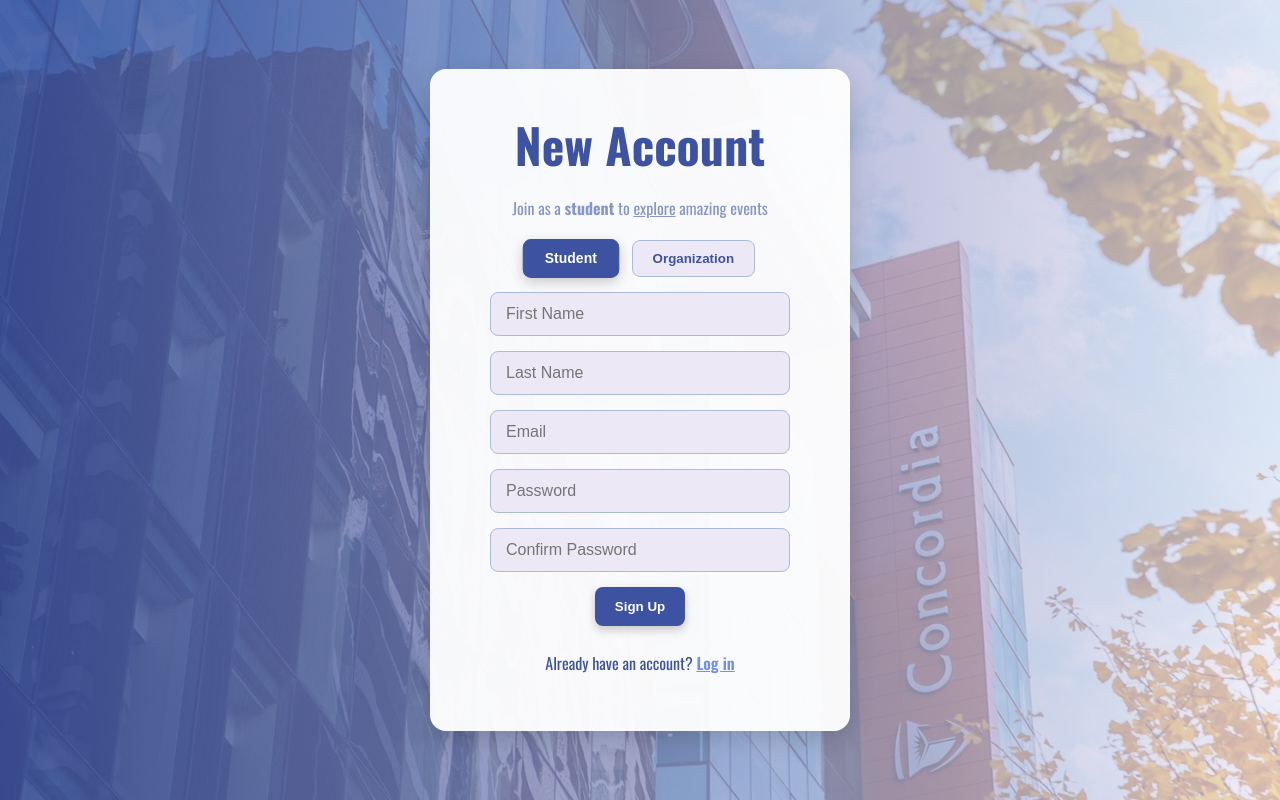
Test: Signup Component › toggles to organization account type
This screenshot has width=1280, height=800.
Click the button "Organization" at (693, 258), box [632, 240, 755, 277]
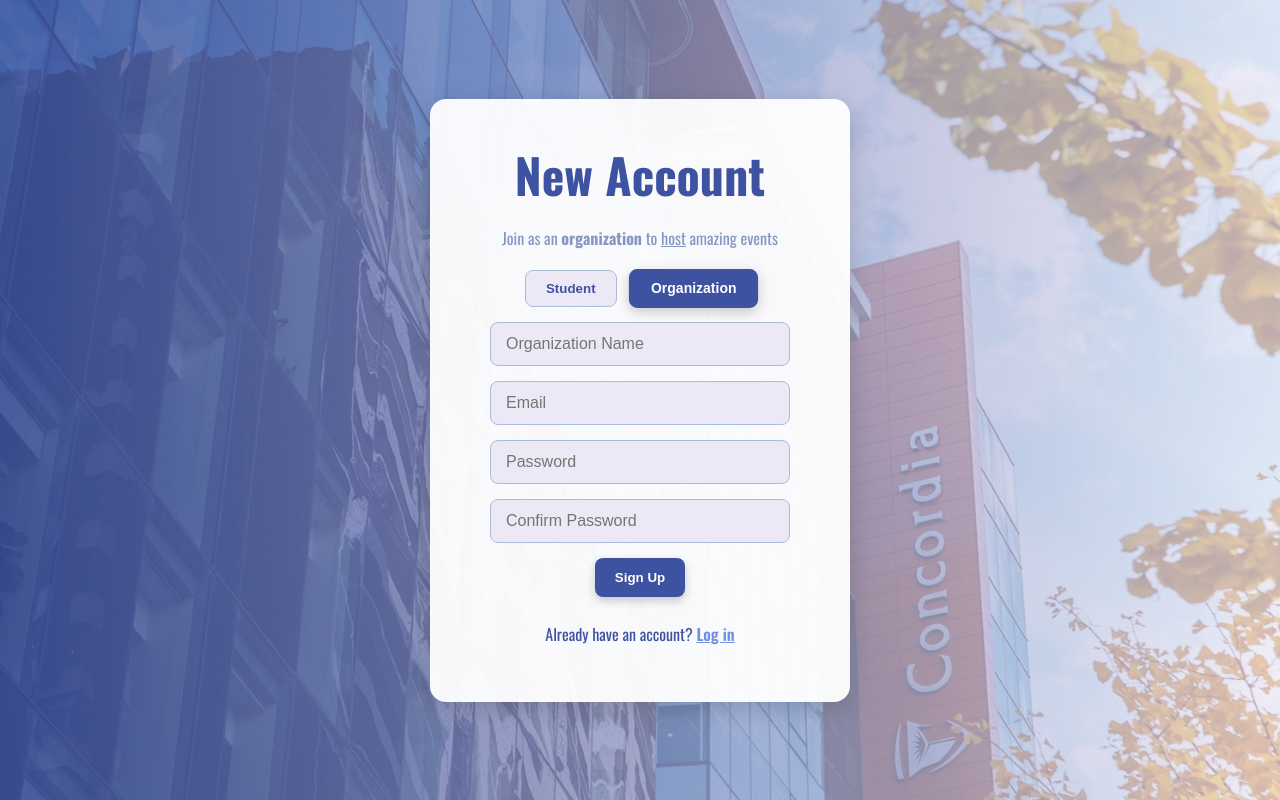
Expected: the field with placeholder "First Name" is not shown
Expected: the field with placeholder "Organization Name" is shown, [490, 322, 790, 366]
